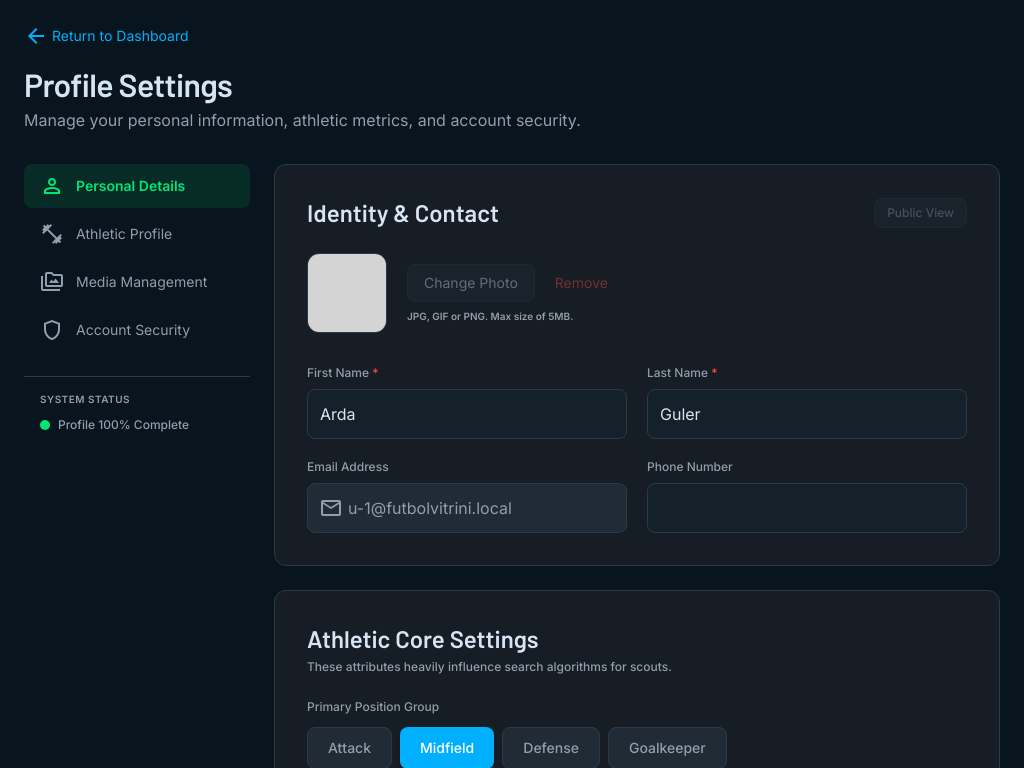
Test: ProfileSettings › parola formu bos alanda hata verir
Click the button "Account Security".
click(137, 330)  # box [24,308,250,352]
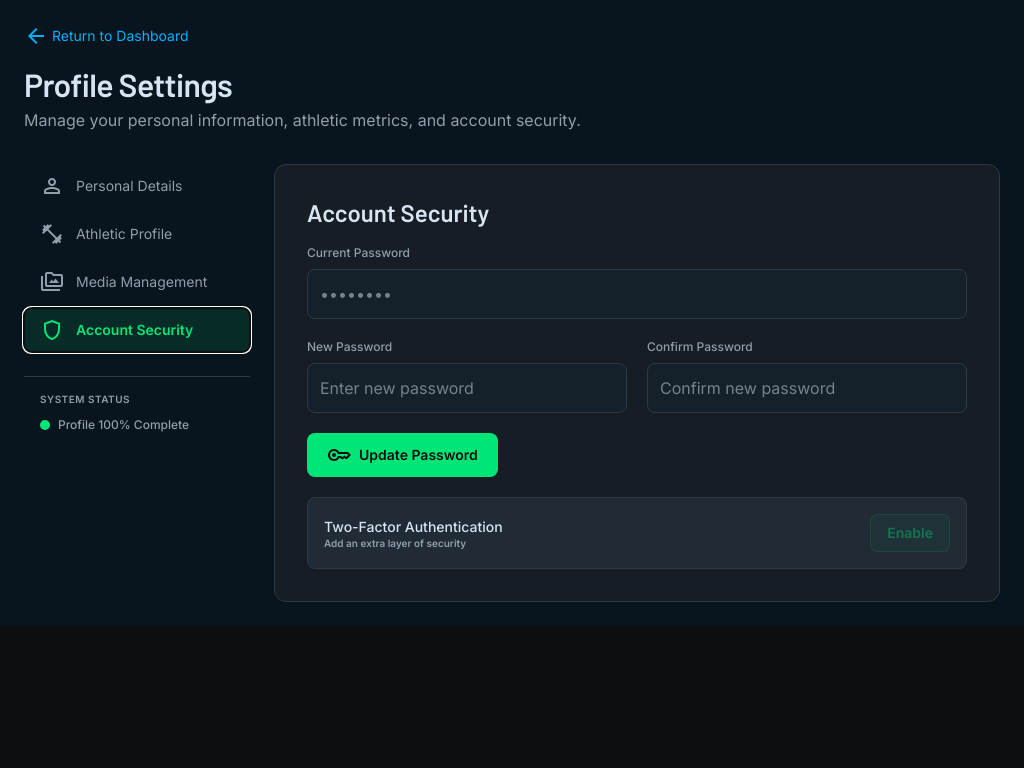
Click the button "Update Password".
click(402, 455)  # box [307,433,498,477]
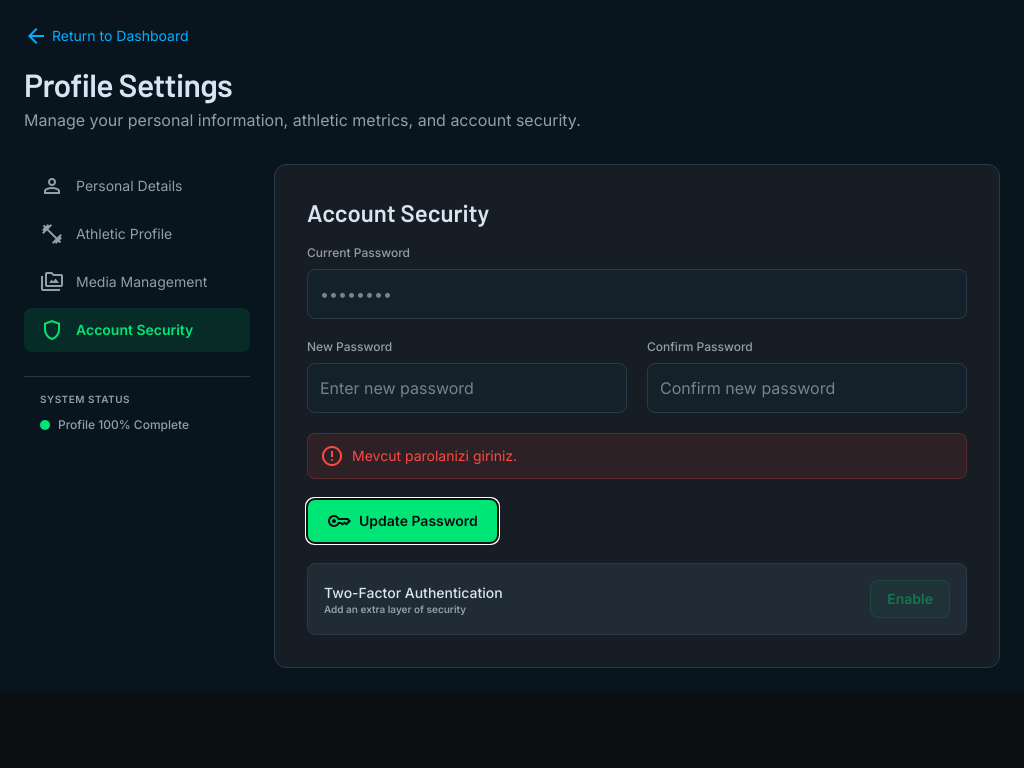
Now the message reads "Mevcut parolanizi giriniz.", box [352,447,517,464]
